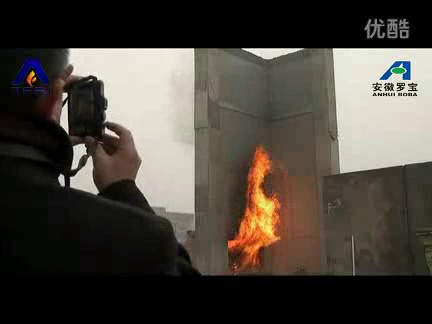fire: (222, 141, 285, 272)
